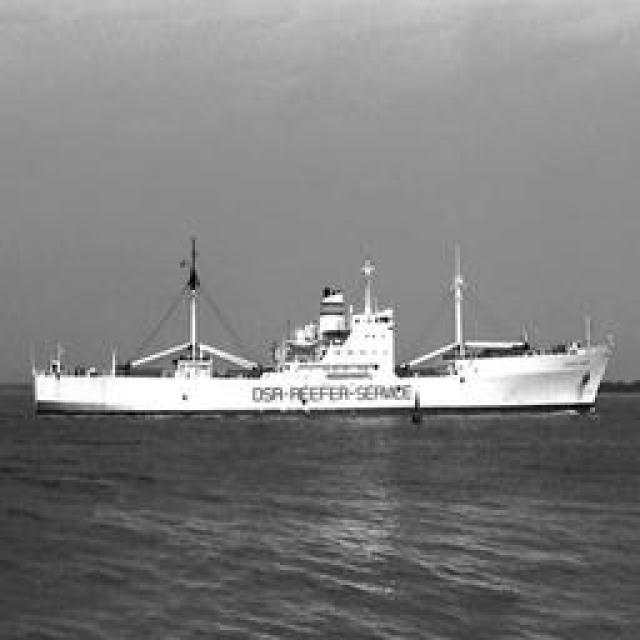Ship: (34, 236, 619, 421)
